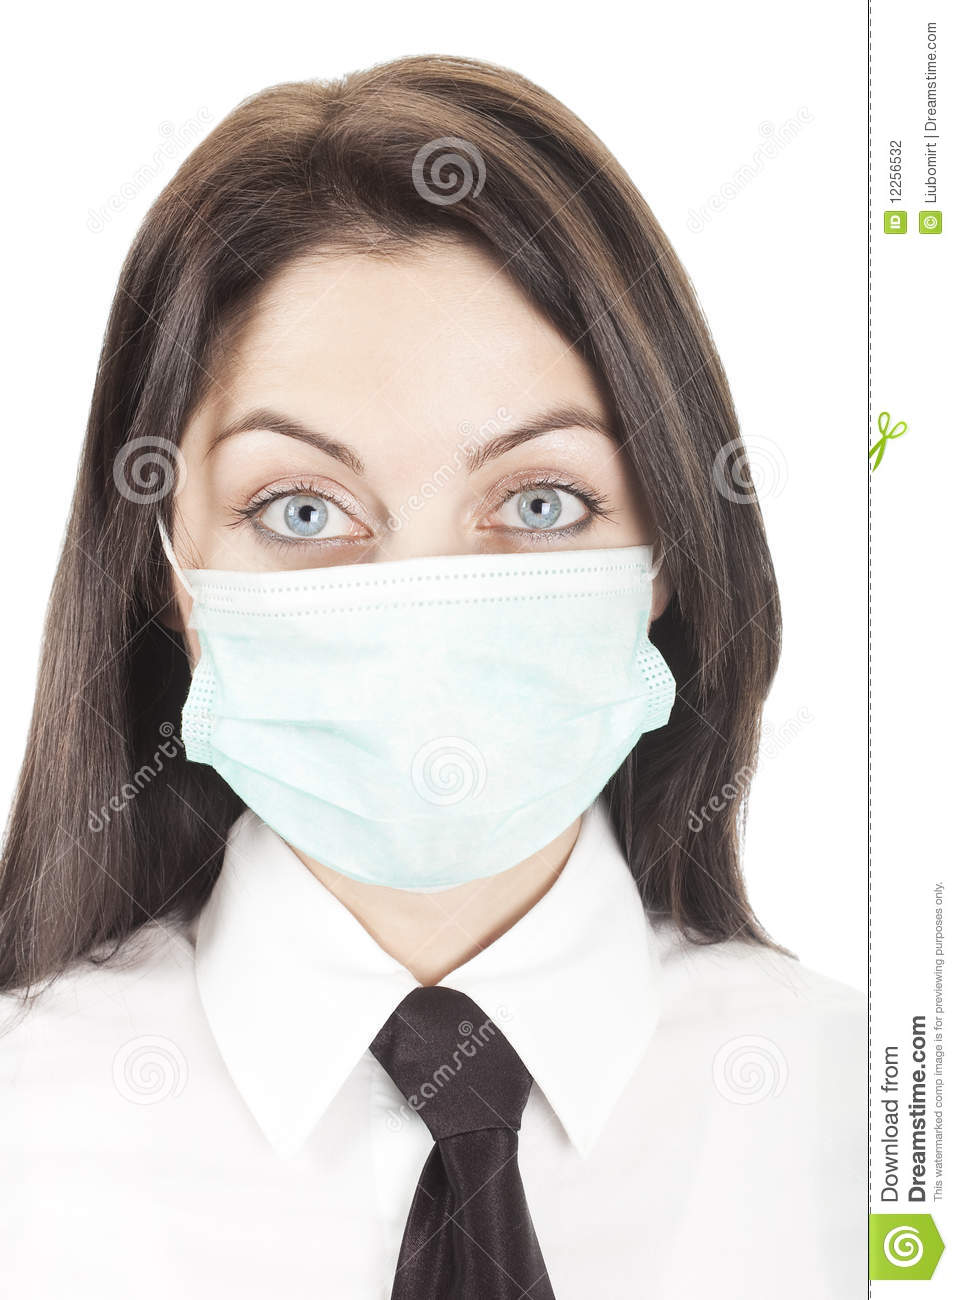mask: (177, 557, 669, 885)
